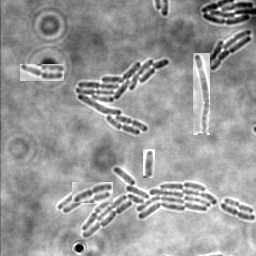Dividing: (193, 53, 210, 135), (72, 182, 113, 203), (20, 64, 64, 81), (219, 204, 255, 222), (223, 199, 253, 215), (143, 149, 155, 178)
Microcolony: (57, 167, 216, 238), (75, 59, 169, 136), (204, 30, 251, 72), (200, 1, 255, 26)
